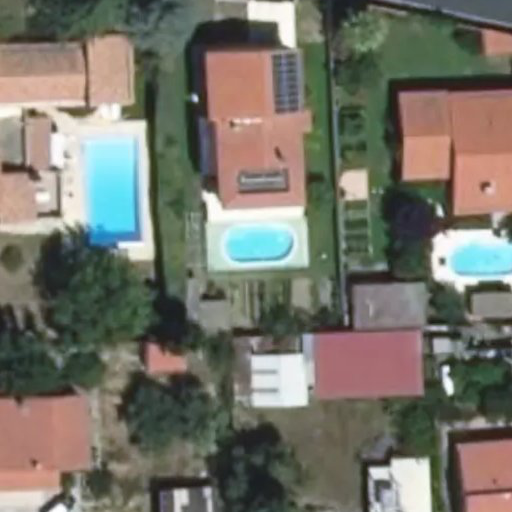pool: (214, 220, 296, 261)
